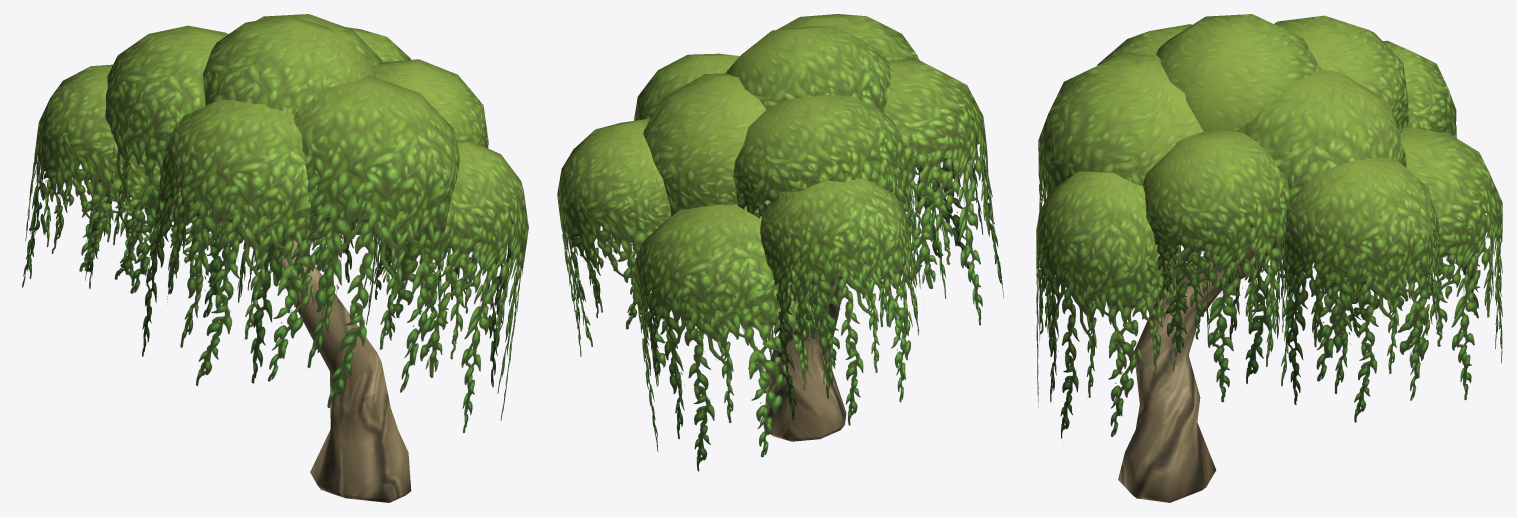
Rendered from tree.glb.
3 renders of one model, left to right at view 1: azimuth 30°, elevation 25°; view 2: azimuth 150°, elevation 25°; view 3: azimuth 270°, elevation 25°, orthographic. The views are drawn at different scales.
Visible parts, largest first — view 1: Object_83; view 2: Object_83; view 3: Object_83.
Boxes of the visible parts, bbox=[...] form: Object_83: bbox=[22, 14, 528, 502]; Object_83: bbox=[557, 14, 1003, 471]; Object_83: bbox=[1036, 14, 1502, 502].
Bounding box in the file's own units: 3.96 × 4.5 × 4.3.
Materials: 2 (2 with a texture image).
